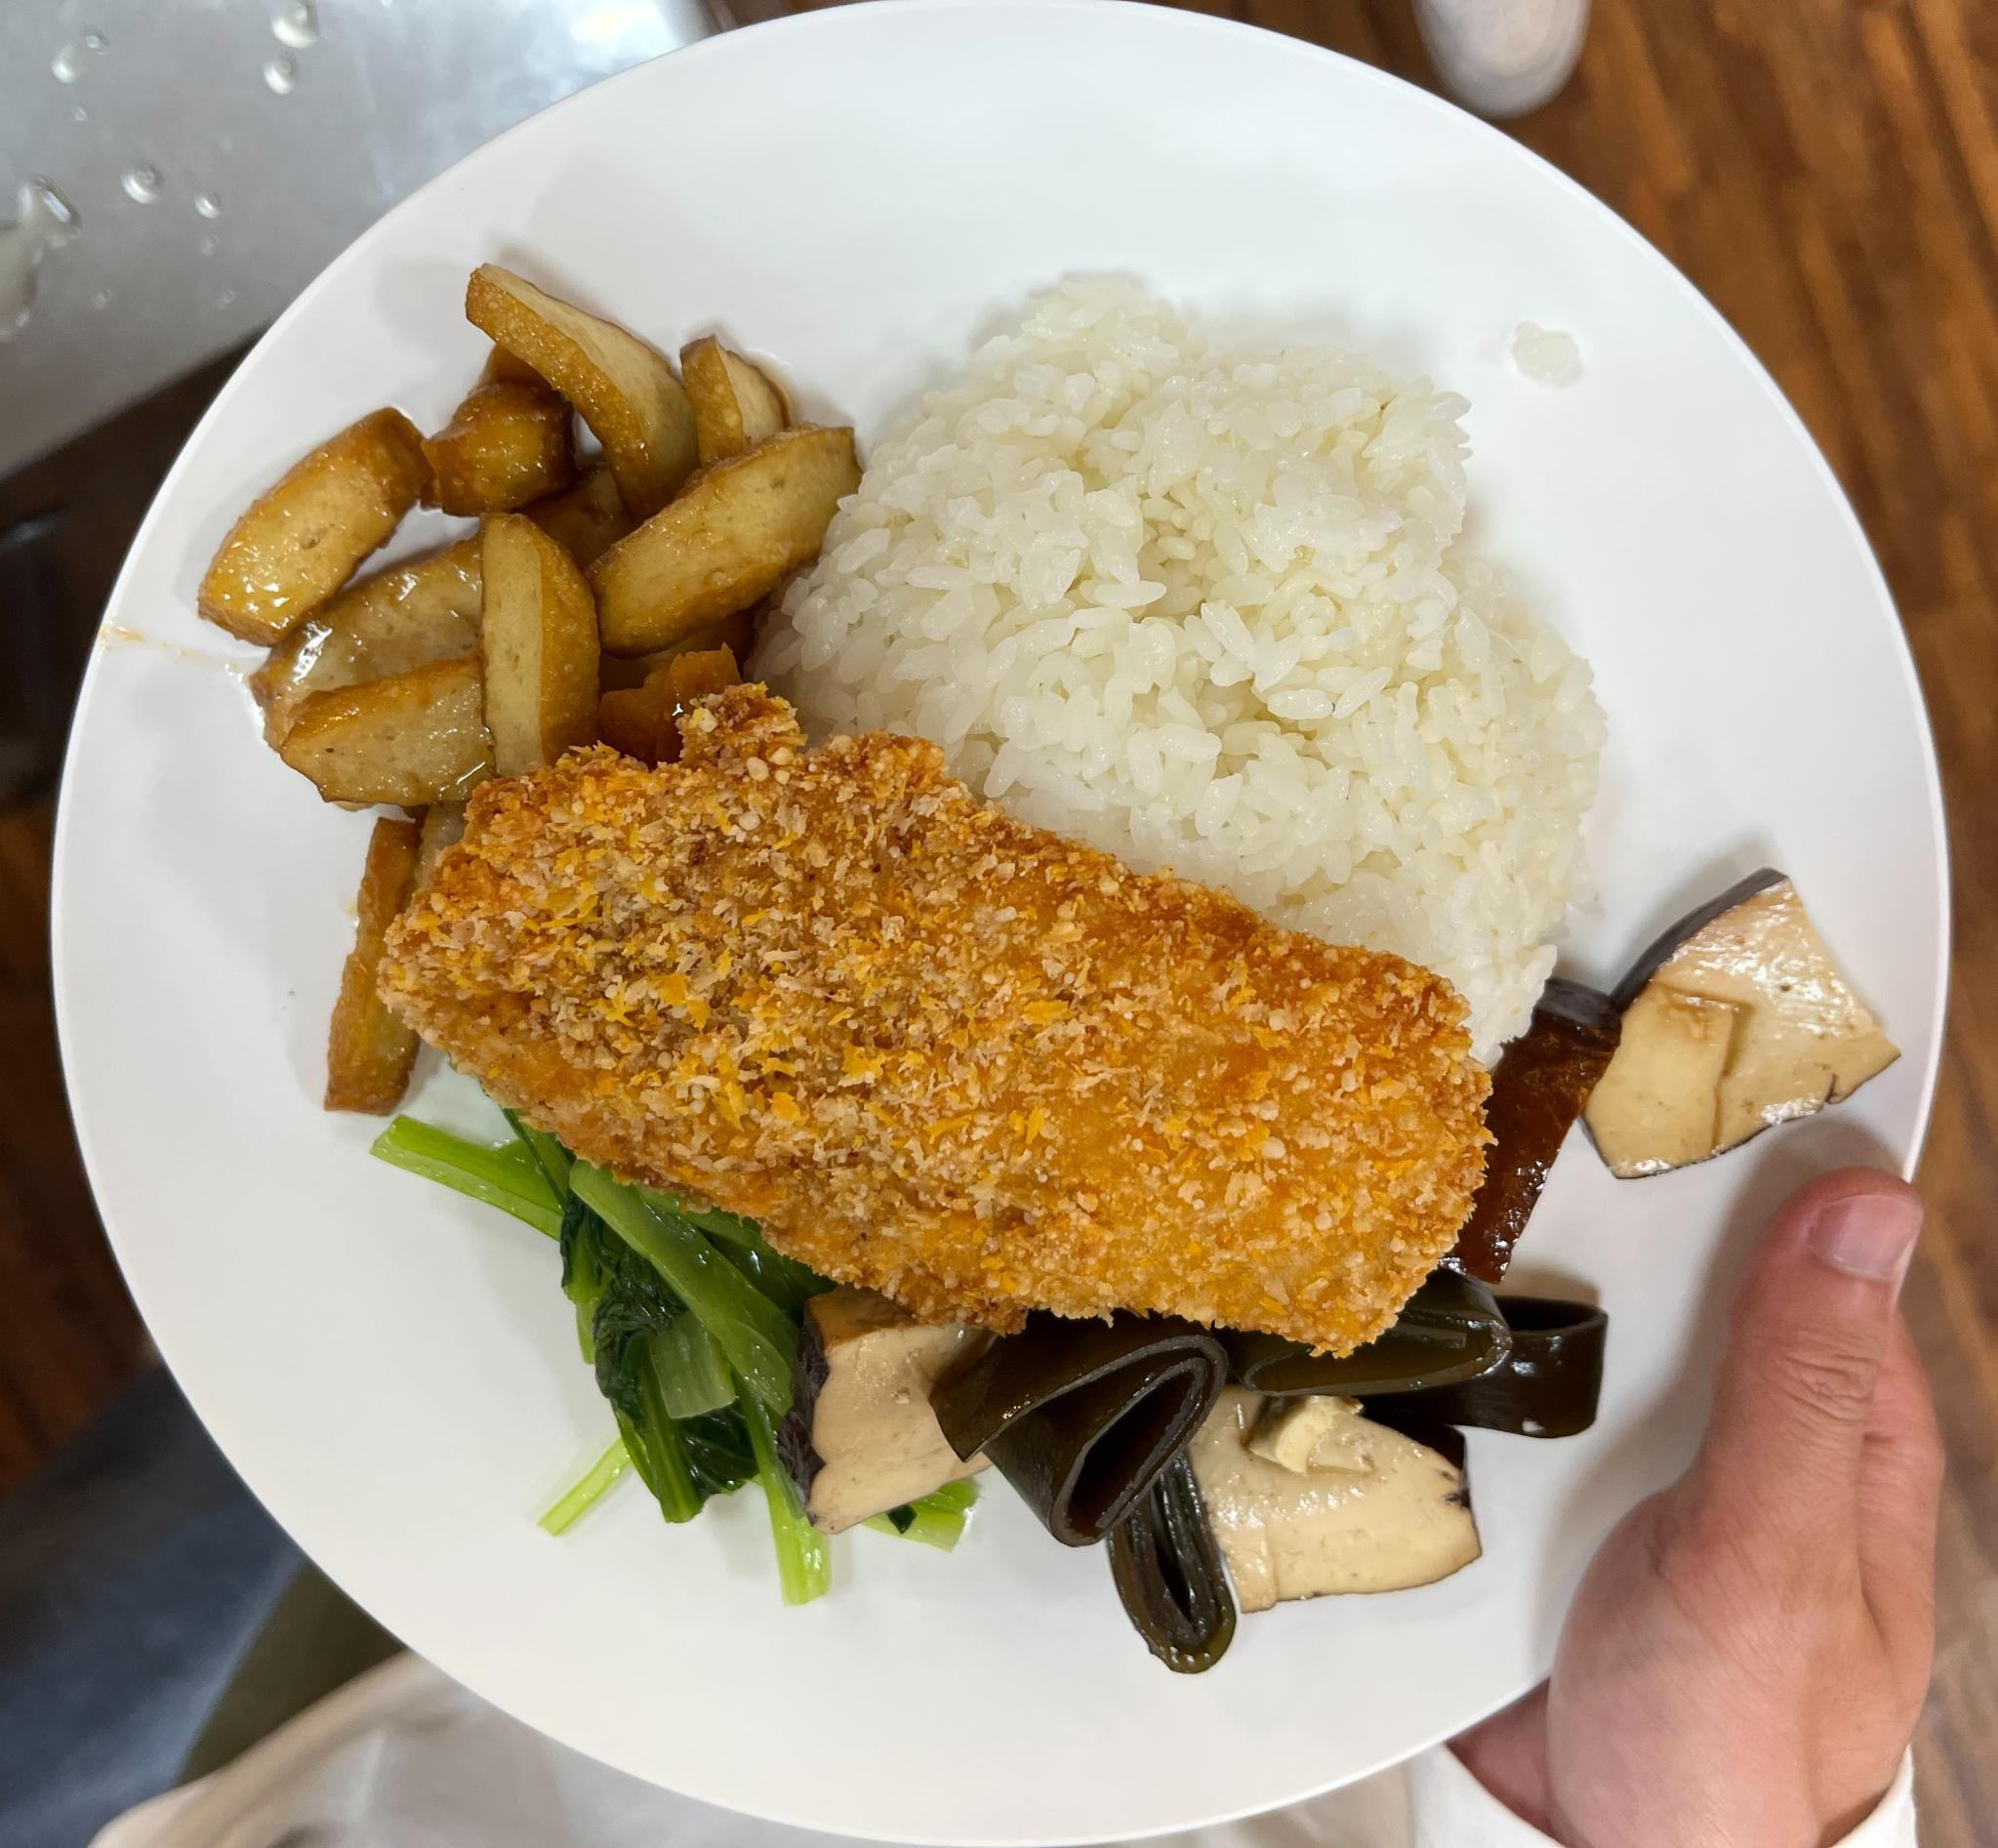big fried chicken leg: (38, 14, 1993, 1829)
big herbal chicken leg: (781, 245, 1627, 983)
braised fish fillet: (830, 865, 1888, 1667), (225, 204, 863, 851), (395, 1114, 1001, 1575)
braised pork: (362, 661, 1509, 1369)
